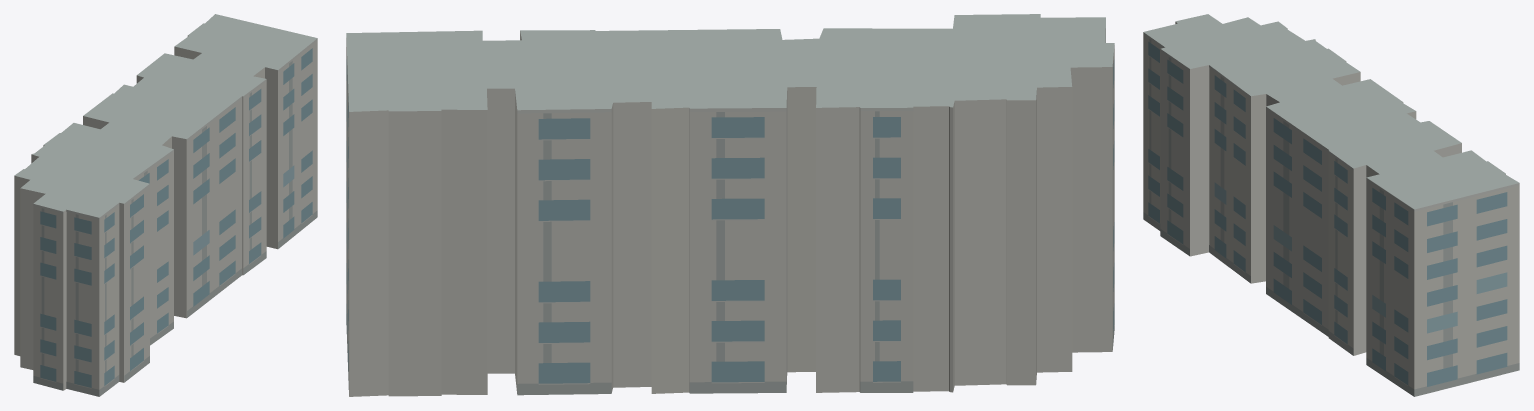
File: survey-upis-32897973.glb
The picture shows the model from 3 angles, left to right: view 1: azimuth 30°, elevation 25°; view 2: azimuth 150°, elevation 25°; view 3: azimuth 270°, elevation 25°; orthographic projection. The views are drawn at different scales.
Visible parts, largest first — view 1: survey-upis-32897973.tmp; view 2: survey-upis-32897973.tmp; view 3: survey-upis-32897973.tmp.
Boxes of the visible parts, x1,y1,x2,y2 form: survey-upis-32897973.tmp: (14,14,317,396); survey-upis-32897973.tmp: (346,14,1114,396); survey-upis-32897973.tmp: (1143,14,1519,396).
Bounding box in the file's own units: 44.65 × 19.95 × 36.33.
